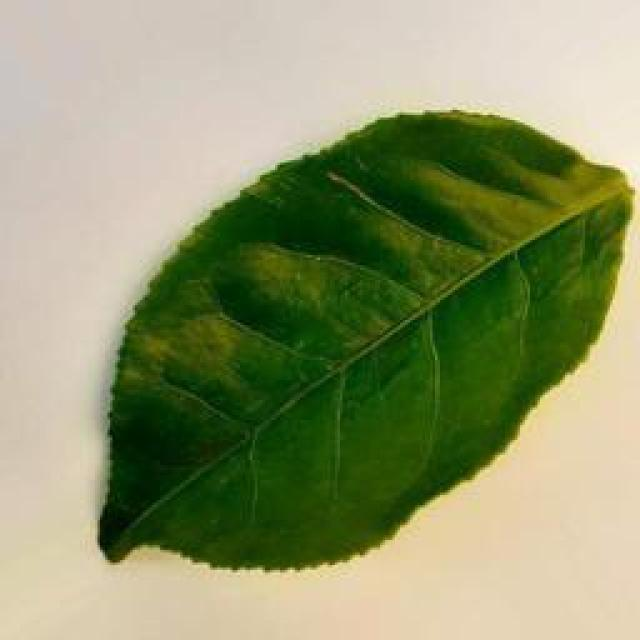Healthy: (89, 102, 633, 594)
